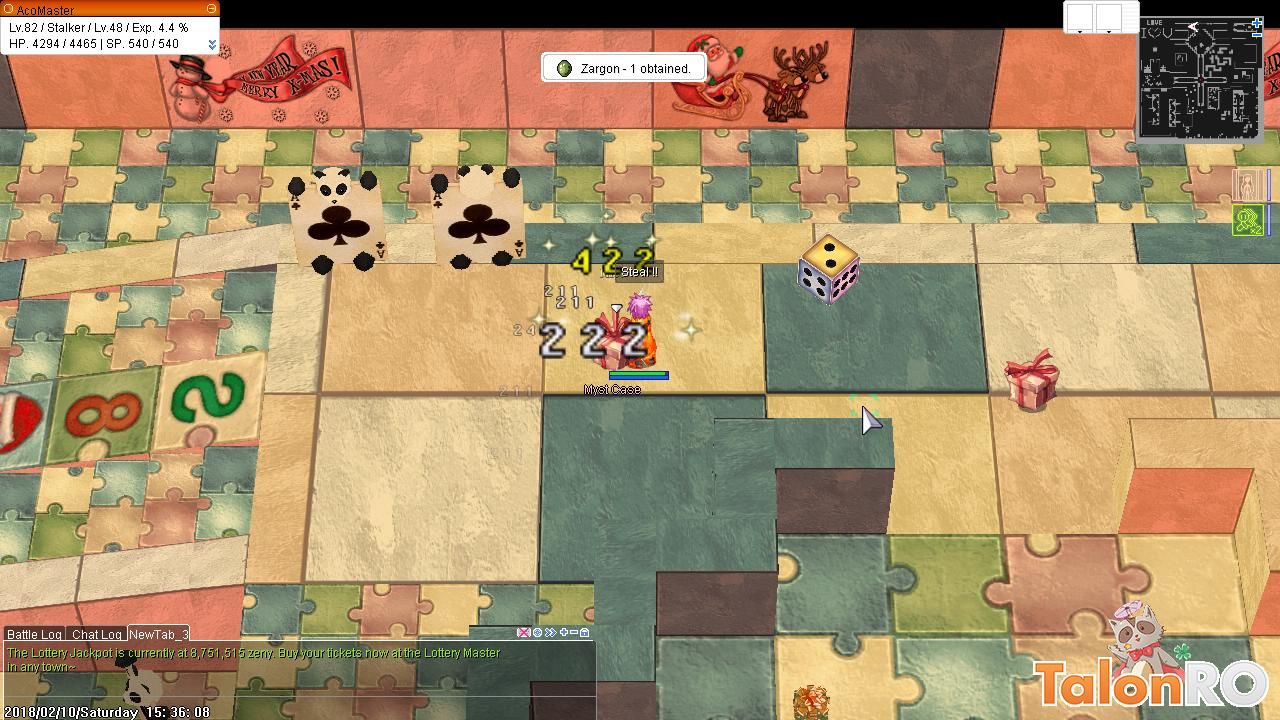myst_case: (1001, 345, 1065, 415), (588, 308, 629, 369)
